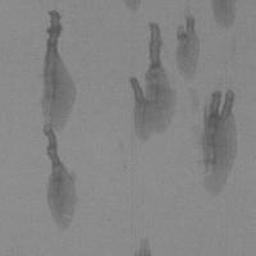Oil spot: (41, 10, 81, 230), (128, 20, 177, 142), (187, 87, 238, 197), (175, 5, 200, 82), (210, 0, 237, 28), (134, 237, 154, 256), (123, 0, 142, 13)
